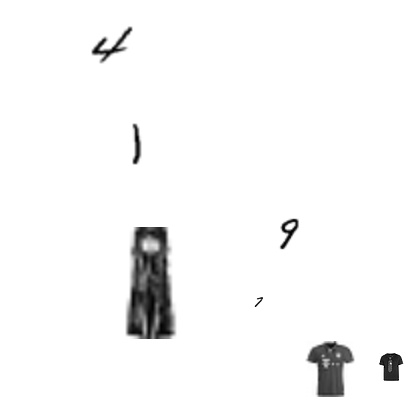1: (107, 116, 163, 172)
4: (82, 17, 138, 73)
7: (252, 294, 266, 308)
9: (267, 210, 309, 252)
Dress: (95, 227, 207, 339)
T-shirt/top: (302, 341, 358, 397), (377, 353, 405, 381)
